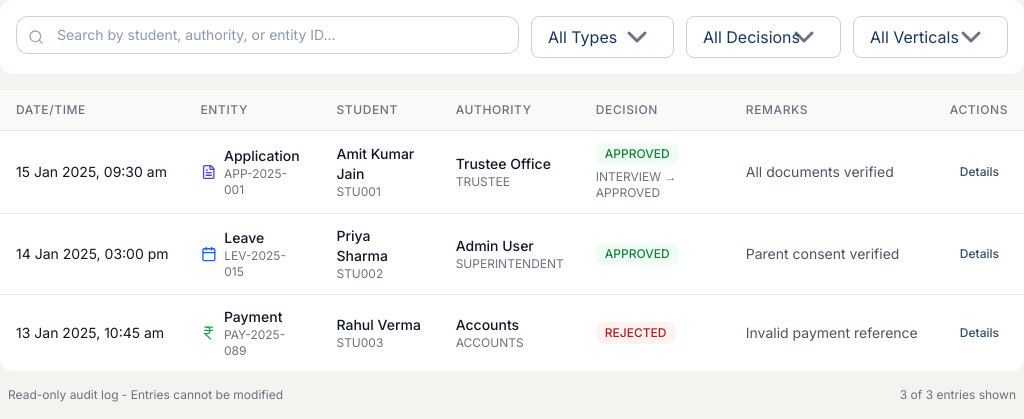
Task 21: Audit, Logs, and Compliance Screens › ApprovalHistoryTable › filters by decision type
The width and height of the screenshot is (1024, 419).
Select "Rejected" in the 2nd dropdown: (764,37) [686,16,841,58]
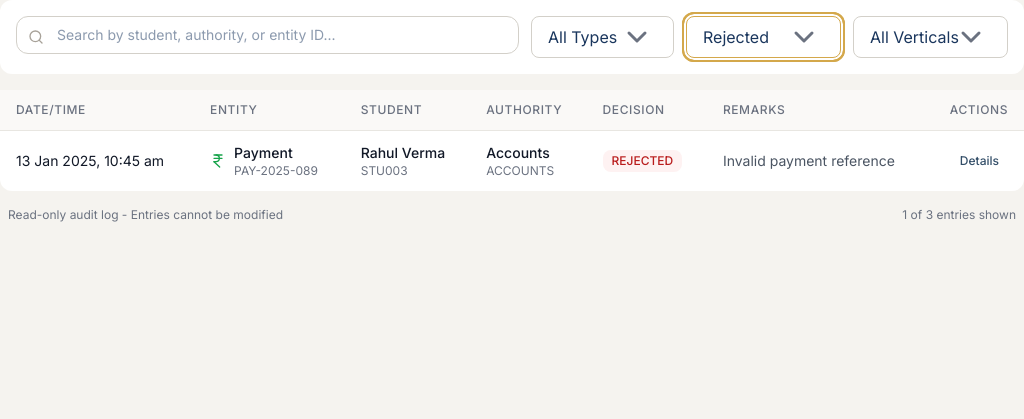
Expected: the text "Rahul Verma" is shown, [361,143,454,163]
Now the text "Trustee Office" is gone
